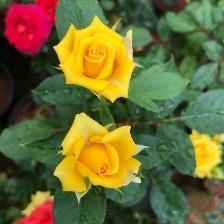rose: (53, 113, 150, 206), (54, 15, 138, 105)
